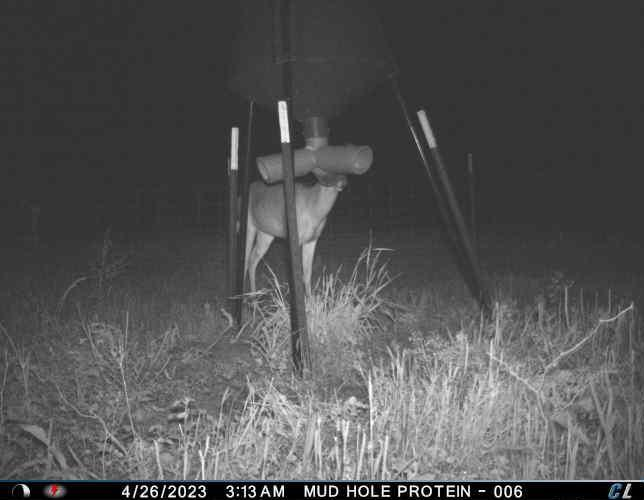Deer: (239, 141, 356, 311)
